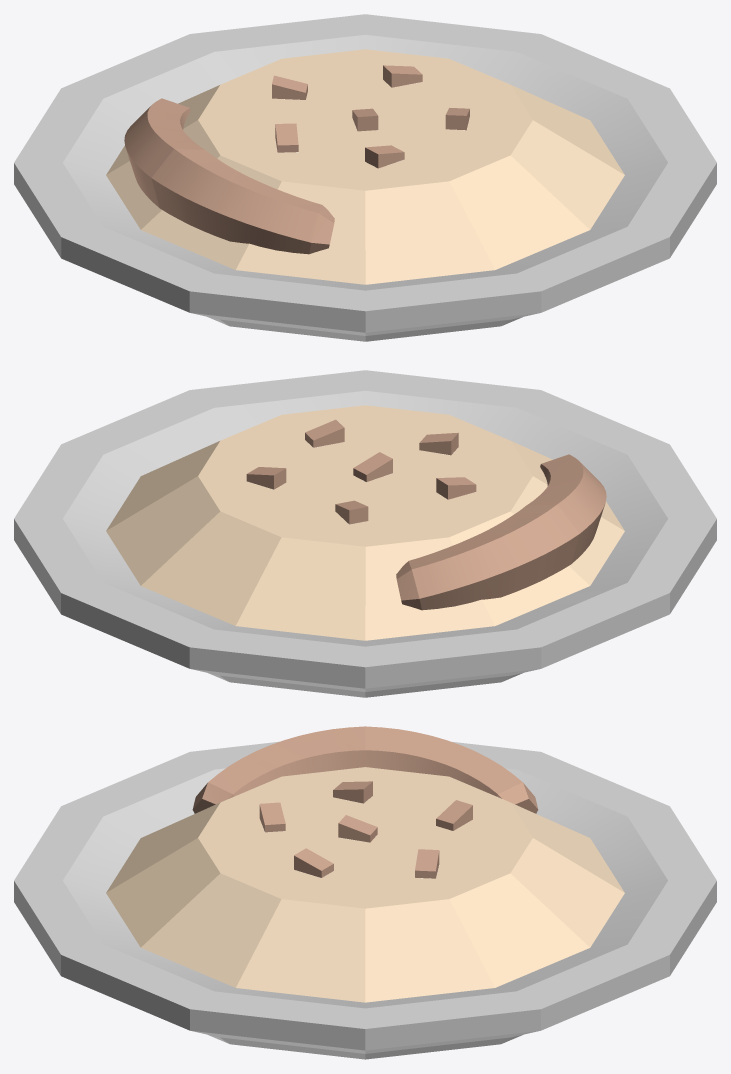
3 renders of one model, top to bottom at view 1: azimuth 30°, elevation 25°; view 2: azimuth 150°, elevation 25°; view 3: azimuth 270°, elevation 25°, orthographic.
Visible parts, largest first — view 1: plateSauerkraut, sausage; view 2: plateSauerkraut, sausage; view 3: plateSauerkraut, sausage.
Boxes of the visible parts, bbox=[...] form: plateSauerkraut: bbox=[14, 14, 716, 341]; sausage: bbox=[124, 98, 334, 254]; plateSauerkraut: bbox=[14, 370, 716, 697]; sausage: bbox=[396, 454, 606, 610]; plateSauerkraut: bbox=[14, 741, 716, 1059]; sausage: bbox=[192, 726, 538, 813].
Size of the model in its own units: 0.8918 by 0.1752 by 0.8918.
